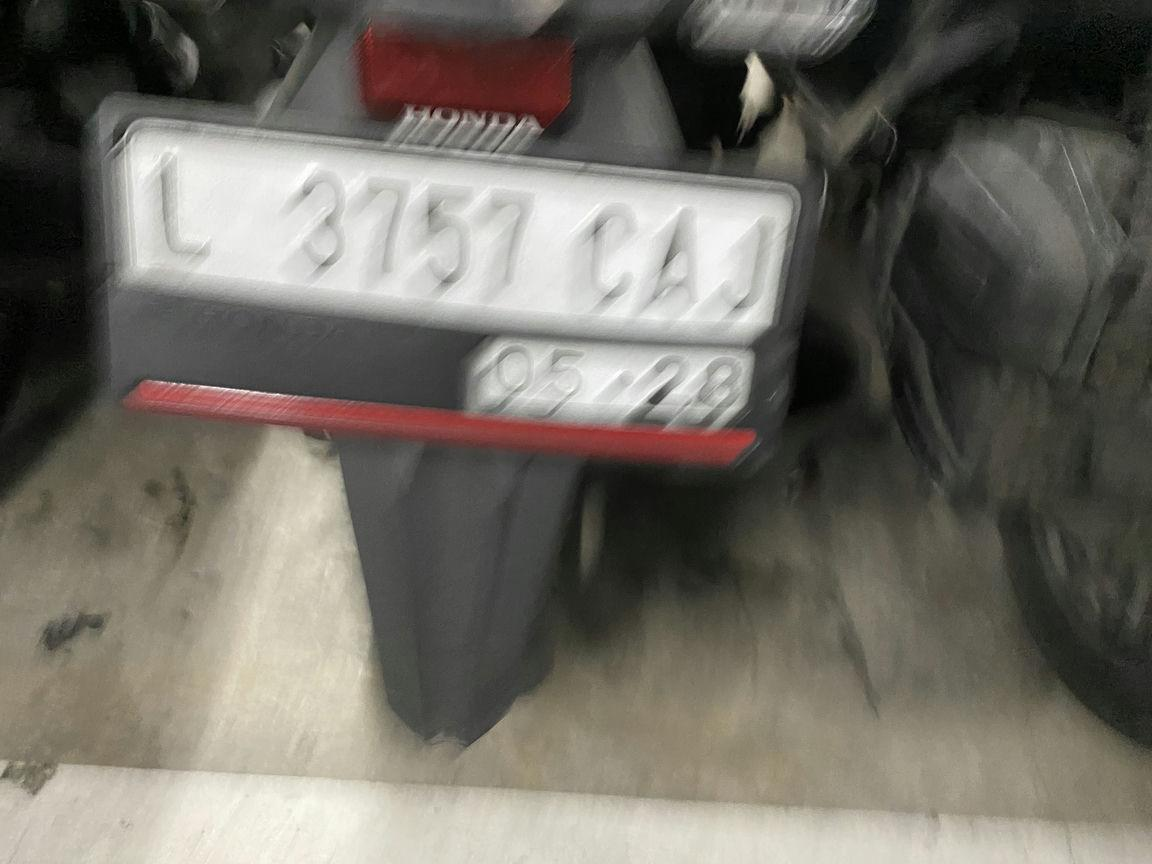plat: (128, 120, 794, 431)
